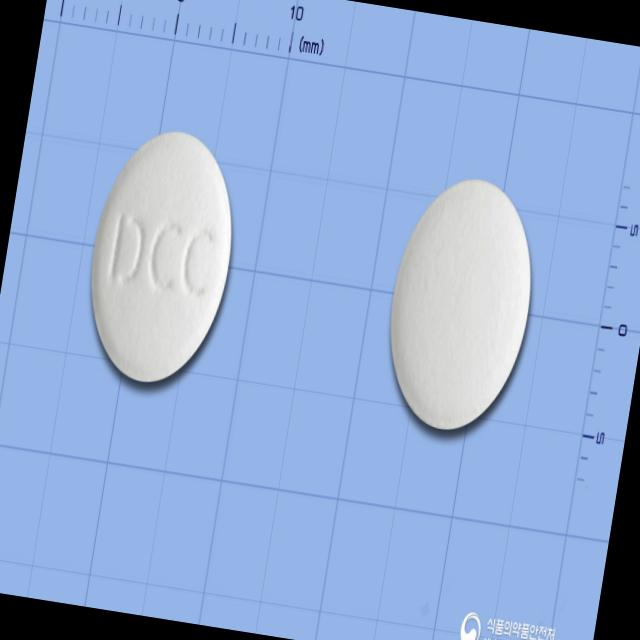Ciproxin -250mg: (70, 116, 256, 399)
